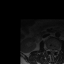CCS_stenosis: (52, 48, 53, 55)
LFS_normal: (55, 48, 57, 53)
LLS_normal: (53, 48, 55, 54)
RFS_normal: (48, 47, 50, 53)
RLS_normal: (50, 48, 52, 54)
